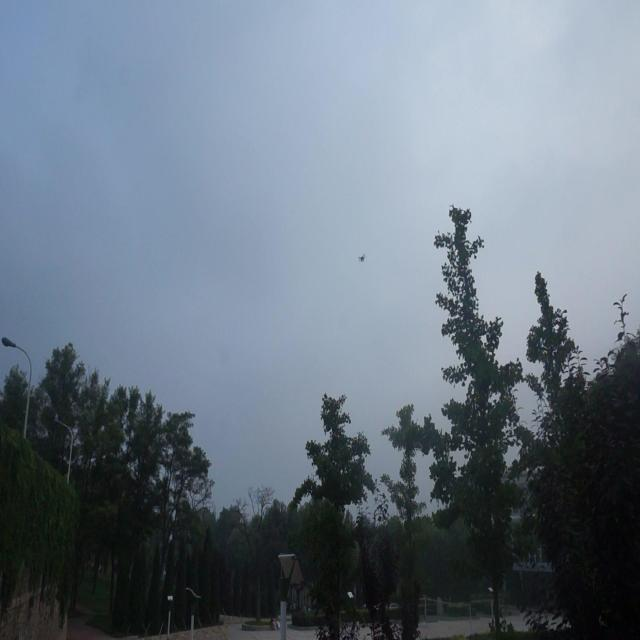drone: (358, 250, 366, 264)
